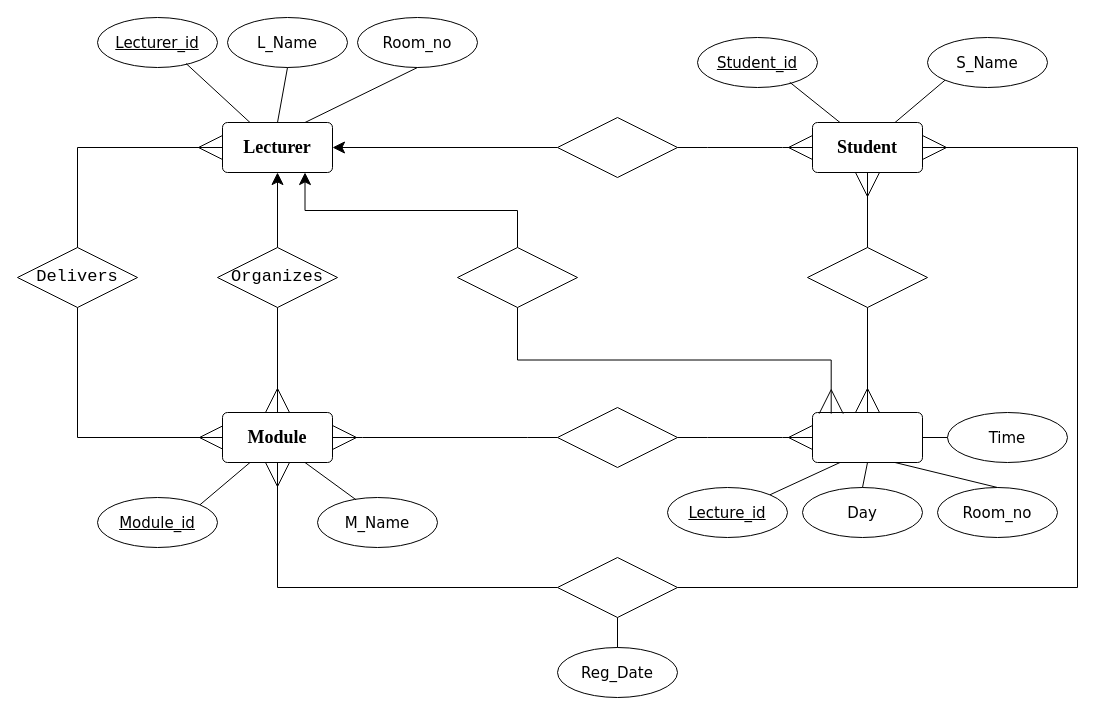
Some shapes in this 1119 by 715 pixel diagram are drawn without their labels. Here are the shapes that lost their labels. From the top down, the centre of each, then its label:
the point at 617,147: Tutors
the point at 517,277: Lectures
the point at 867,277: Attends
the point at 617,437: Part of
the point at 867,437: Lecture
the point at 617,587: Register
